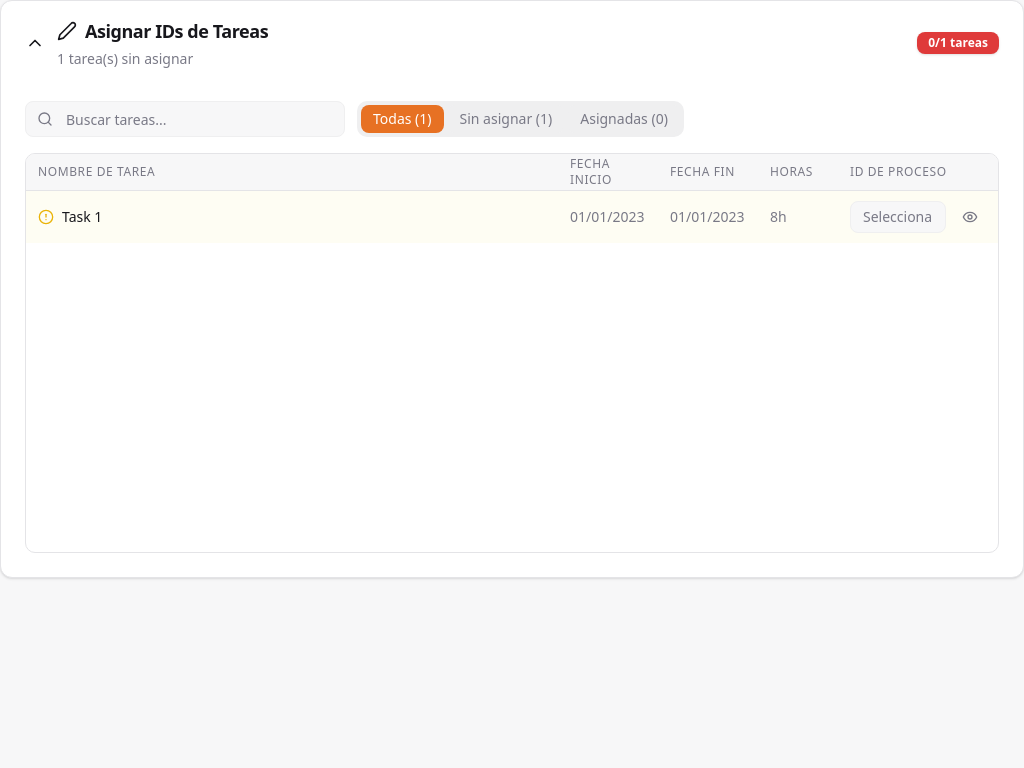
Test: ProcessMappingTable Integration › Create new process flow › should render fases as a Select dropdown in the modal (not text input)
The width and height of the screenshot is (1024, 768).
Step 1. Click the field with placeholder "Seleccionar ID..." → (898, 216), box x1=850 y1=200 x2=946 y2=232
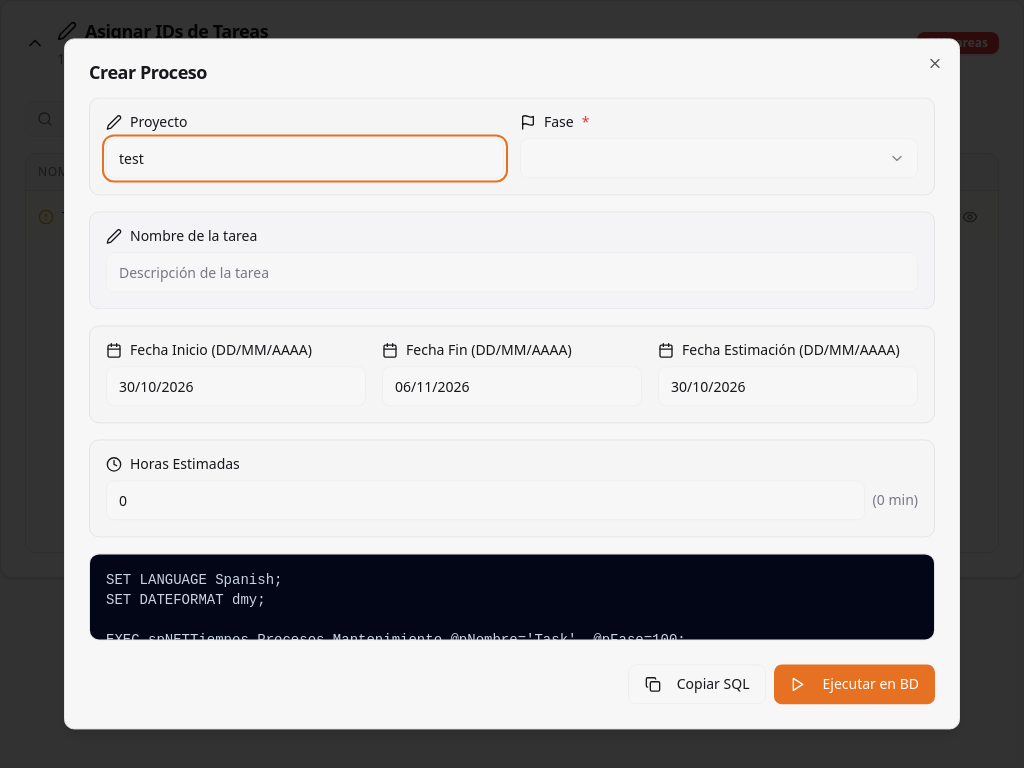
Expected: the heading "Crear Proceso" is shown, x1=89 y1=60 x2=207 y2=84
